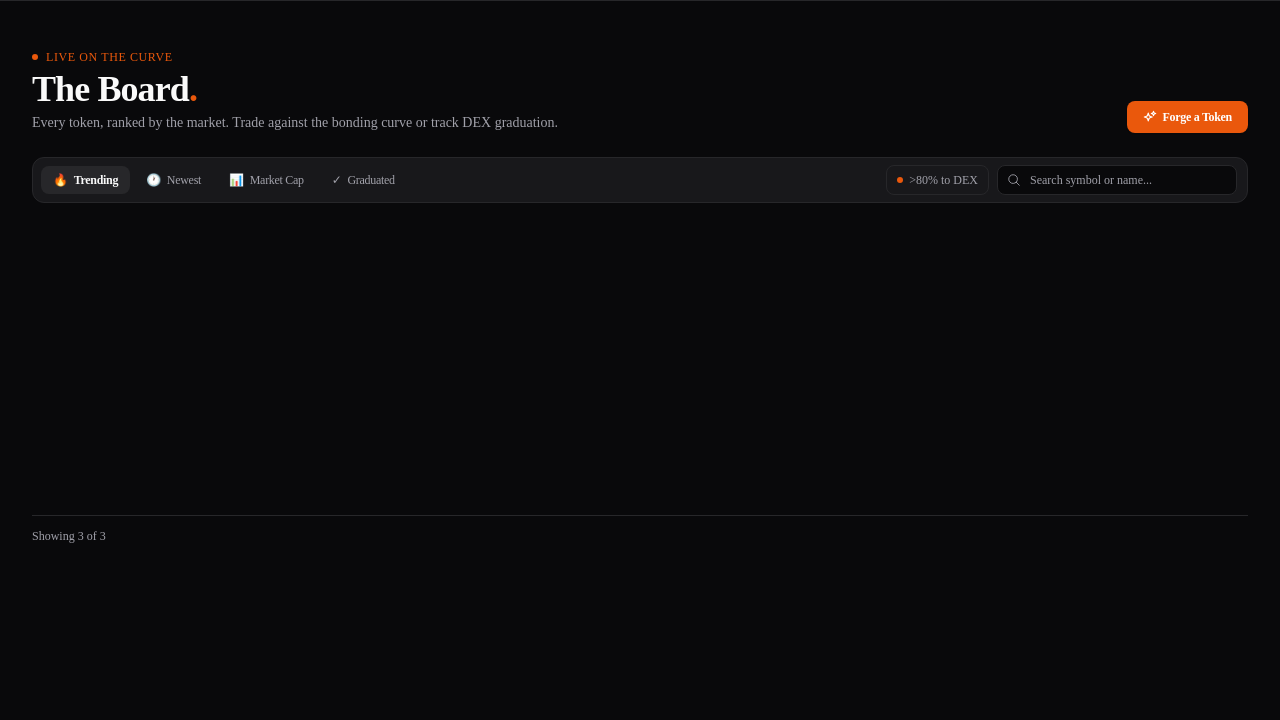
Test: TokenFeed Search, Filtering & Pagination › filters tokens by name or symbol match
Type "beta" into the field named "Search tokens" at (1117, 180), box [997,165,1237,195]
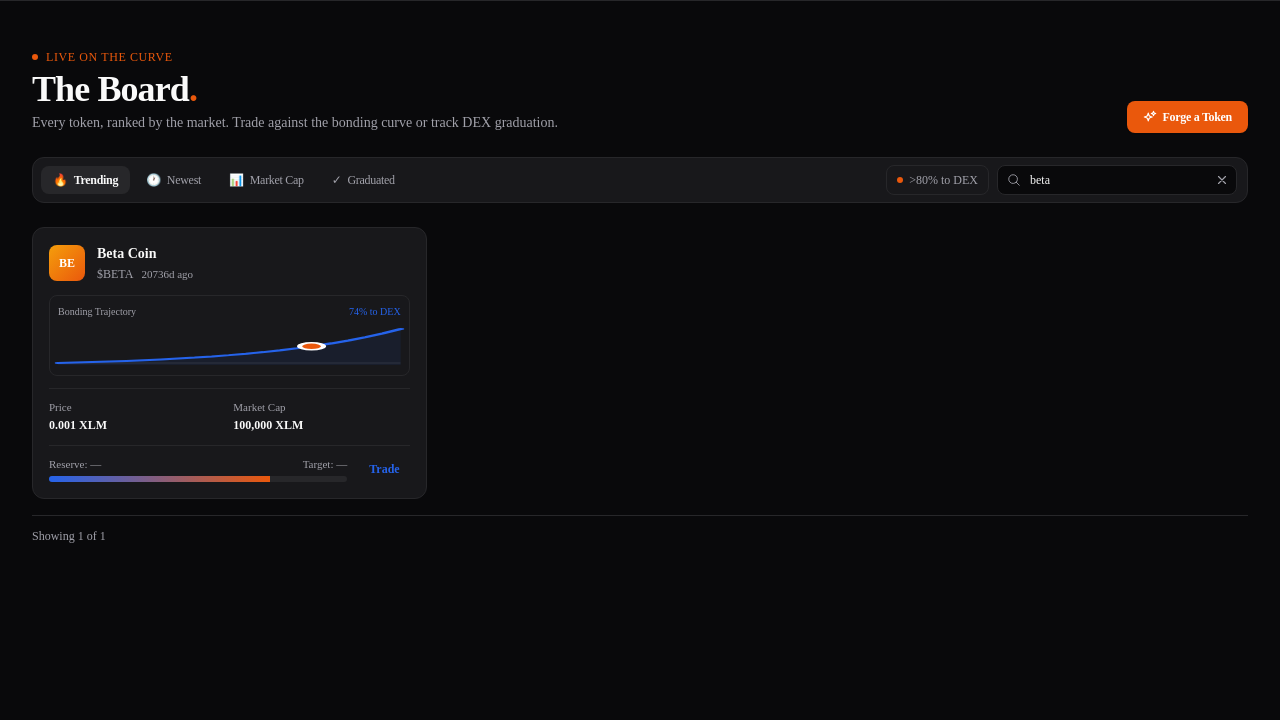
Now the heading "Beta Coin" is shown, box [97,246,156,261]
